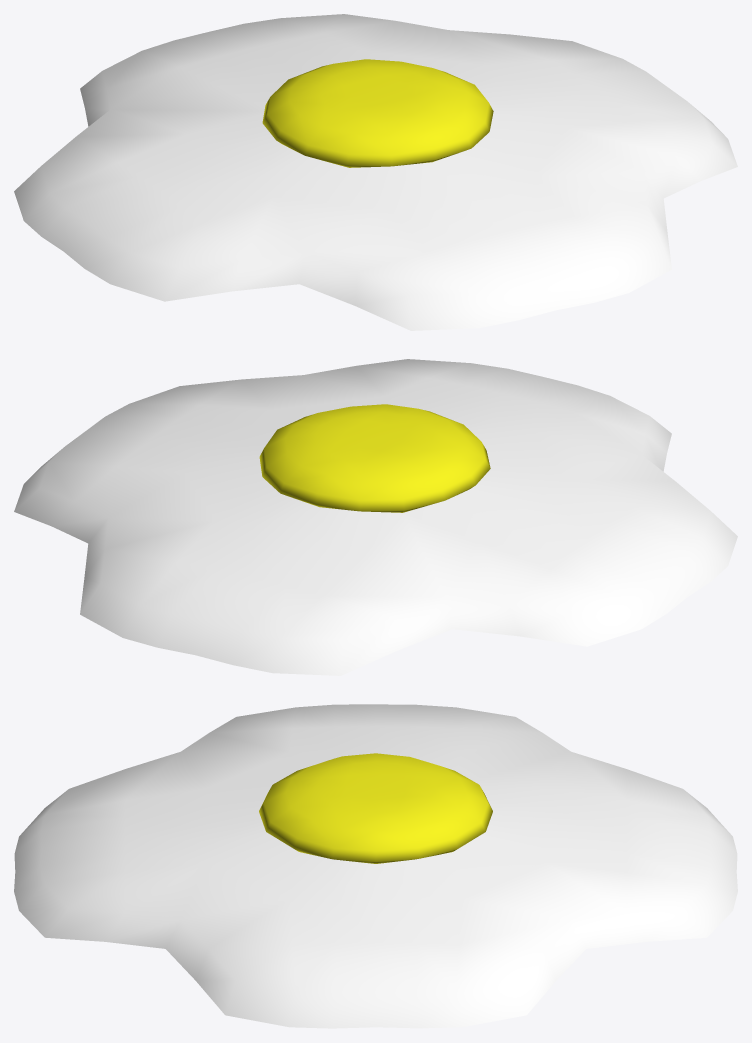
The model's file is ASFTR_EggFried.fbx.
The picture shows the model from 3 angles, top to bottom: view 1: azimuth 30°, elevation 25°; view 2: azimuth 150°, elevation 25°; view 3: azimuth 270°, elevation 25°; orthographic projection.
Parts seen in each view (by area): view 1: ASFTR_EggFried; view 2: ASFTR_EggFried; view 3: ASFTR_EggFried.
Boxes of the visible parts, x1,y1,x2,y2 form: ASFTR_EggFried: (14,14,737,330); ASFTR_EggFried: (14,359,737,675); ASFTR_EggFried: (14,704,737,1028).
Bounding box in the file's own units: 53.08 × 53.09 × 7.41.
